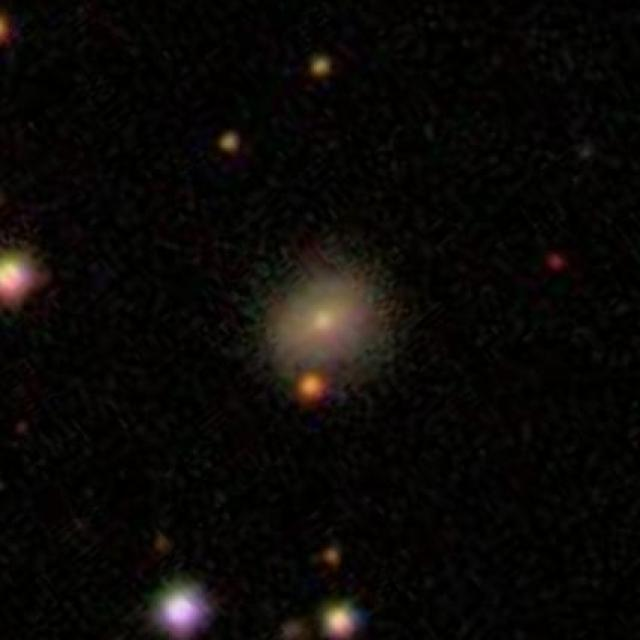galaxy: (253, 227, 399, 415), (148, 566, 211, 632), (1, 238, 44, 315), (323, 593, 372, 640), (293, 368, 330, 415), (211, 125, 246, 165), (1, 5, 25, 57), (305, 50, 339, 85), (149, 521, 178, 559), (280, 613, 317, 640), (316, 545, 353, 569), (545, 252, 570, 279)
